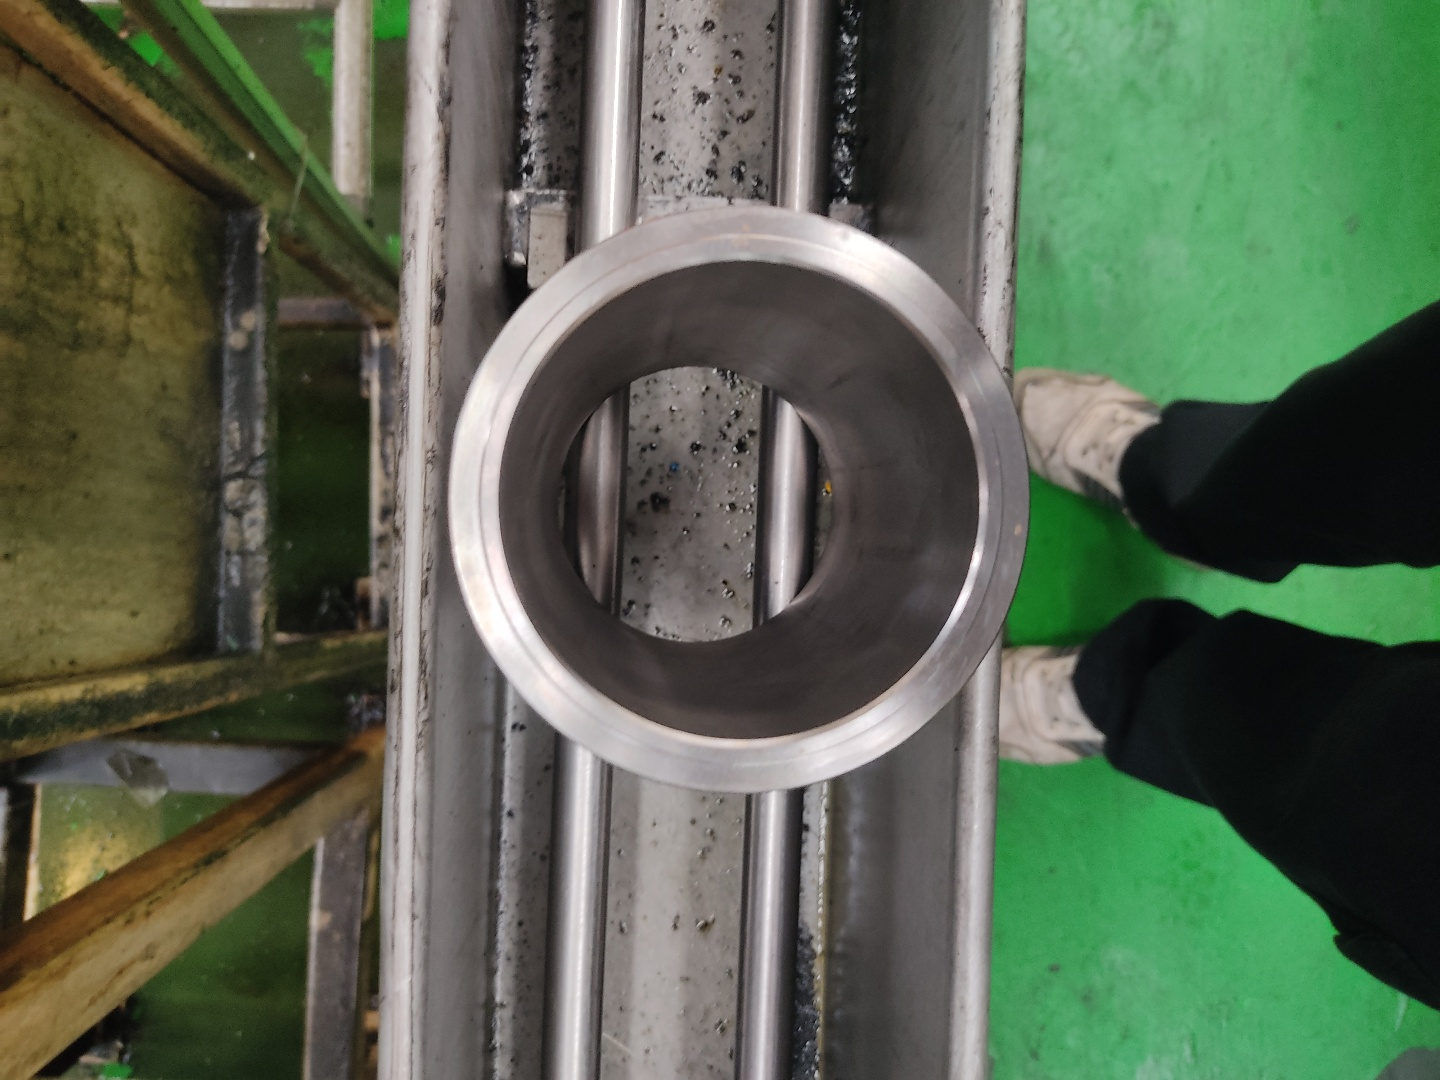cylinder: (443, 200, 1037, 800)
